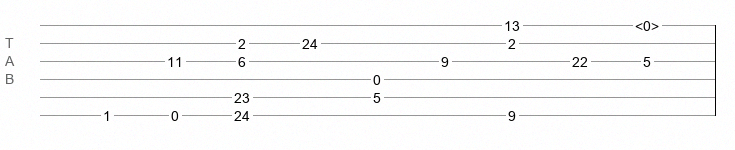0: (171, 108, 179, 118), (373, 72, 381, 82)
1: (103, 108, 111, 118)
11: (167, 54, 183, 64)
13: (504, 18, 520, 28)
2: (238, 36, 246, 46), (508, 36, 516, 46)
22: (572, 54, 588, 64)
23: (234, 90, 250, 100)
24: (234, 108, 250, 118), (302, 36, 318, 46)
5: (373, 90, 381, 100), (643, 54, 651, 64)
6: (238, 54, 246, 64)
9: (441, 54, 449, 64), (508, 108, 516, 118)
harmonic: (635, 18, 659, 28)
